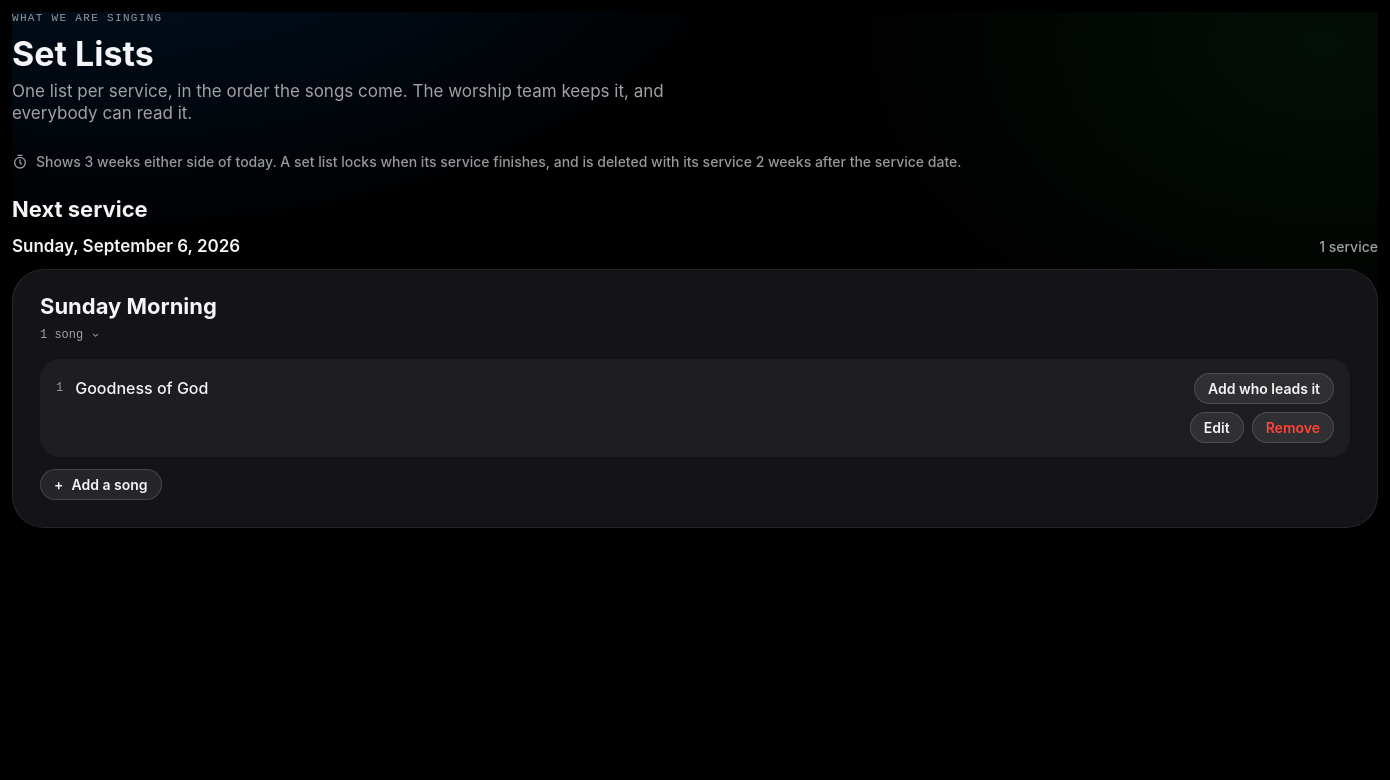
SetListsPage › leaves the song alone when the edit is cancelled
This screenshot has width=1390, height=780.
Click the button "Edit": (1217, 427) [1190, 412, 1244, 442]
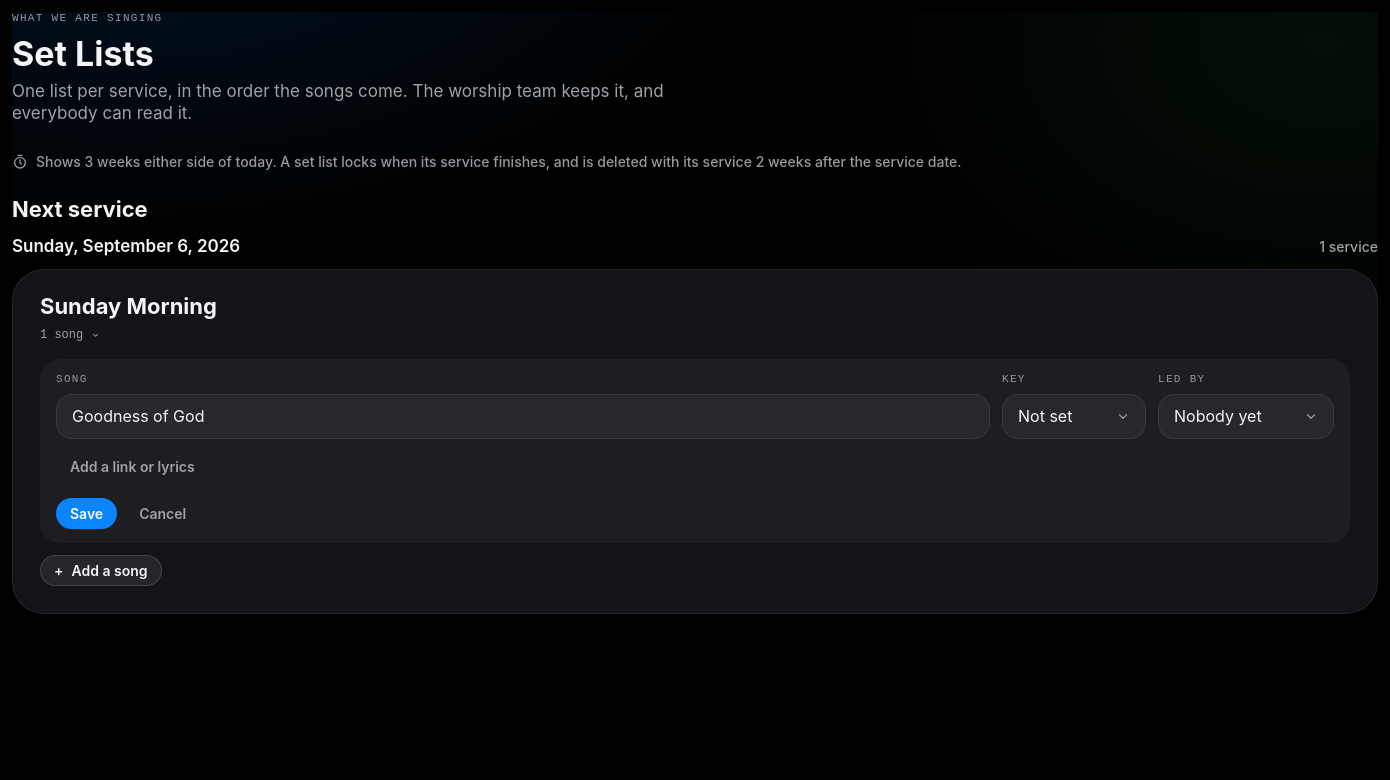
Replace the text in the field labelled "Song" with "Something else entirely": (523, 416) [56, 394, 990, 438]
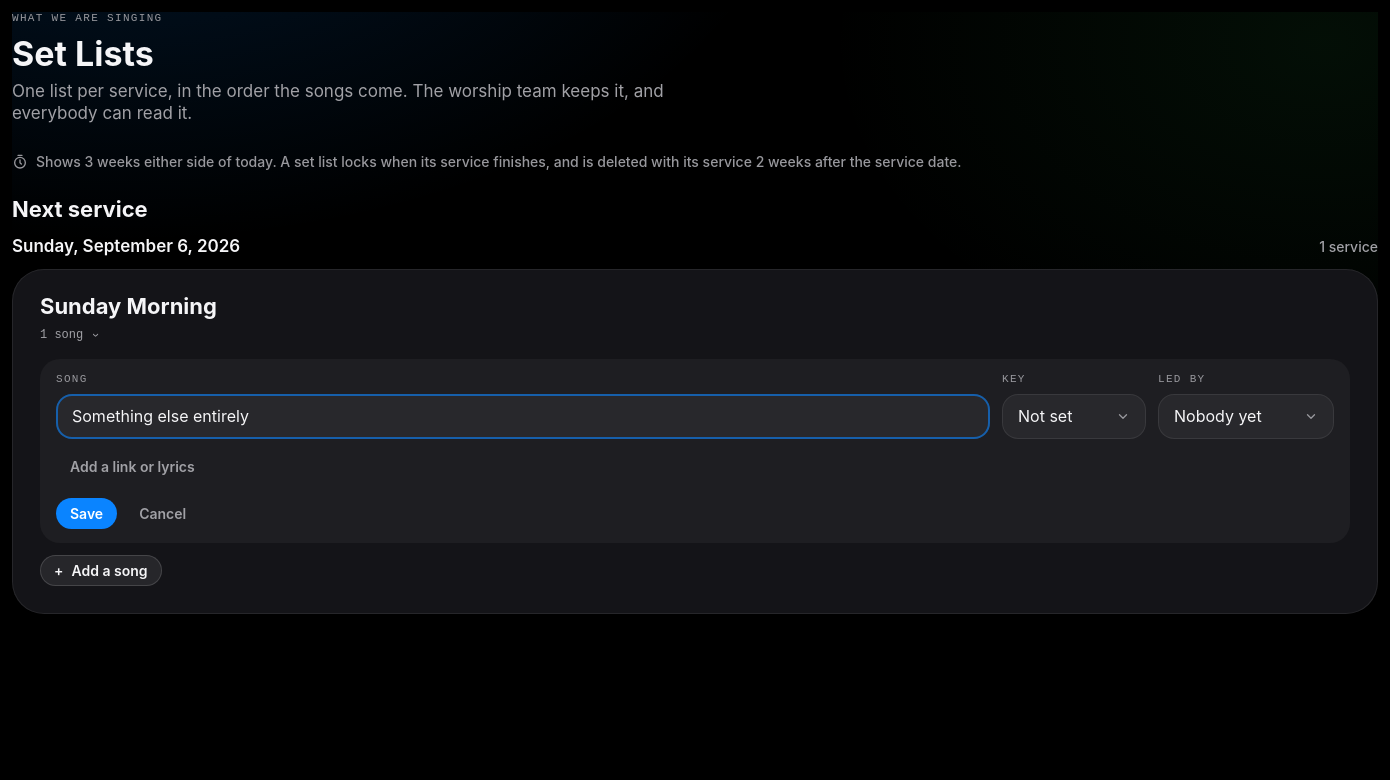
Click the button "Cancel": (163, 513) [125, 498, 200, 528]
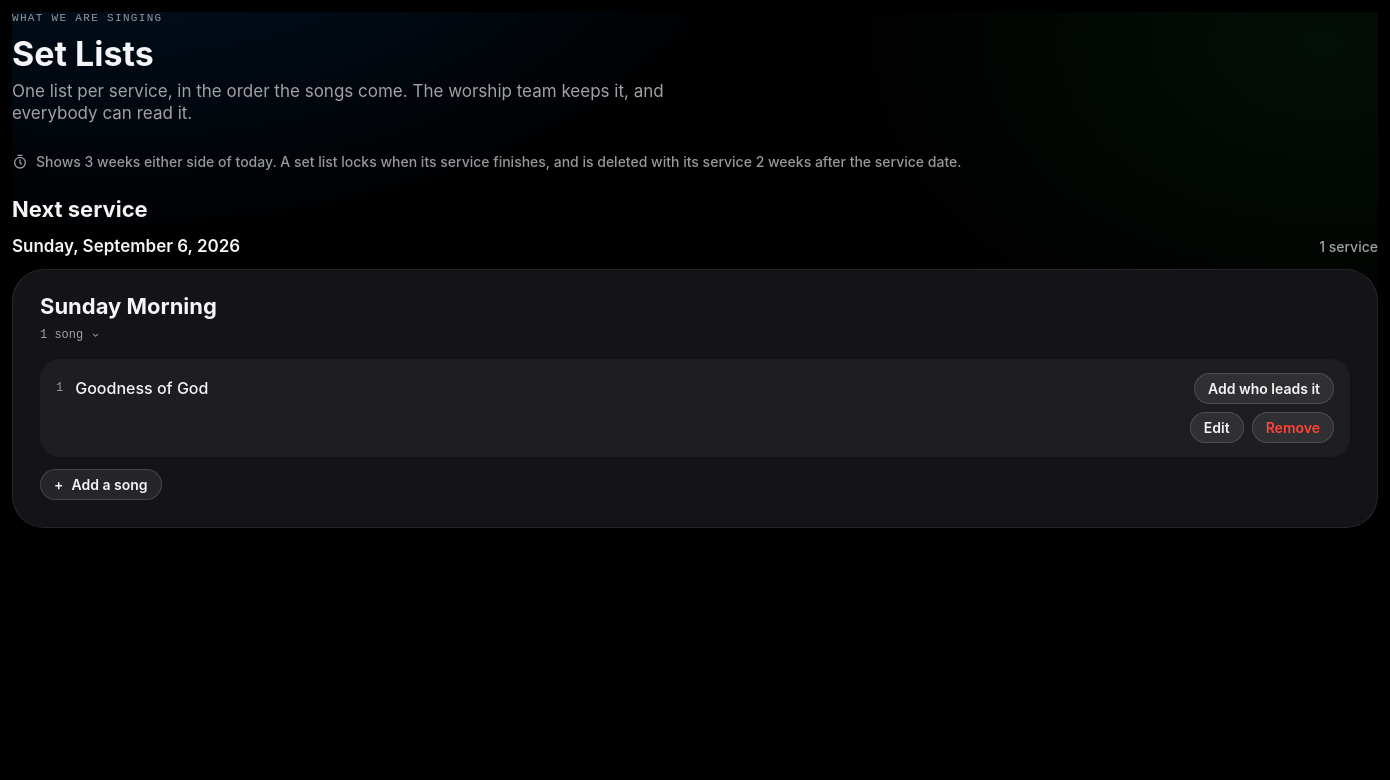
Result: the text "Goodness of God" is shown at [75, 378, 208, 398]
